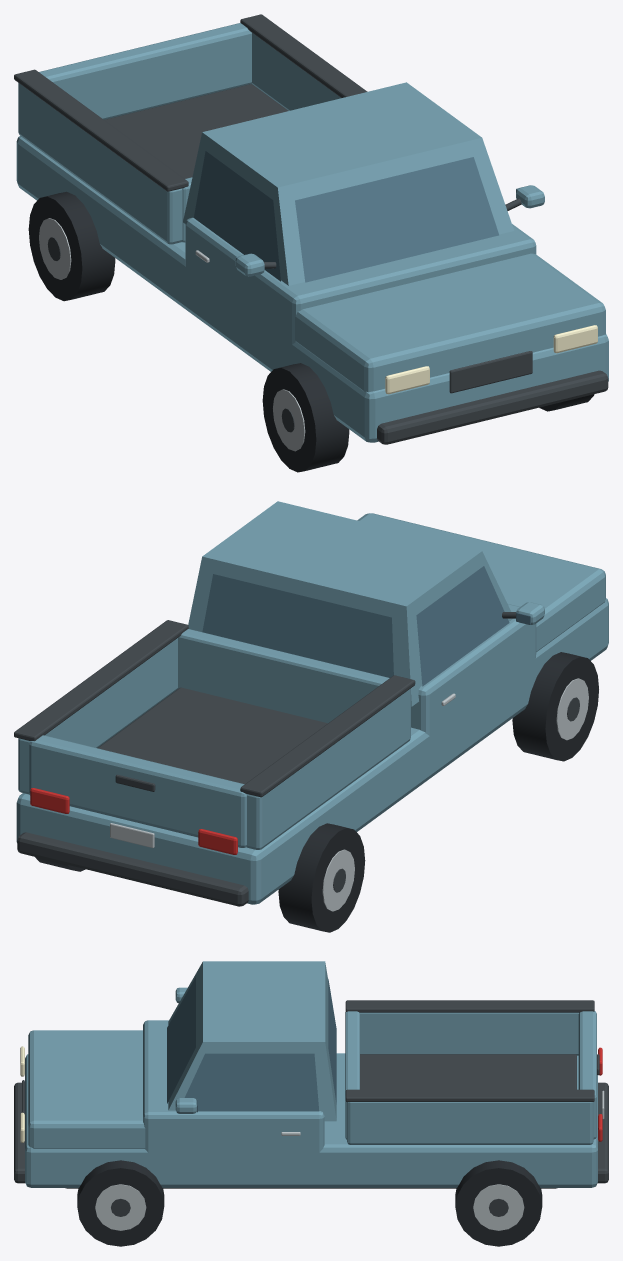
Rendered from car_pickup_truck.glb.
3 views of the same model, one above another, from view 1: azimuth 30°, elevation 25°; view 2: azimuth 150°, elevation 25°; view 3: azimuth 270°, elevation 25° (orthographic). The views are drawn at different scales.
Visible parts, largest first — view 1: Pickup bonnet, Pickup cab cabin shell, Main body, Pickup cab windshield, Cab lower body, Pickup tailgate, Cargo bed side, Truck bed floor, Pickup cab left window 1, Left front wheel tire, Left rear wheel tire, Front bumper (+8 smaller); view 2: Main body, Pickup cab cabin shell, Pickup tailgate, Truck bed floor, Pickup cab rear glass, Bed front wall, Cargo bed side, Pickup bonnet, Cab lower body, Cargo bed side.001, Pickup cab left window 1, Left rear wheel tire (+9 smaller); view 3: Main body, Pickup cab cabin shell, Pickup bonnet, Cargo bed side.001, Cab lower body, Cargo bed side, Truck bed floor, Pickup cab right window 1, Right front wheel tire, Right rear wheel tire, Cargo rail cap.001, Cargo rail cap (+8 smaller).
Boxes of the visible parts, box(x1,y1,x2,y2) form: Pickup bonnet: box(295, 253, 605, 392); Pickup cab cabin shell: box(183, 82, 514, 285); Main body: box(16, 136, 608, 442); Pickup cab windshield: box(295, 157, 498, 282); Cab lower body: box(185, 217, 536, 345); Pickup tailgate: box(39, 23, 251, 119); Cargo bed side: box(18, 83, 182, 244); Truck bed floor: box(104, 84, 288, 178); Pickup cab left window 1: box(193, 151, 280, 281); Left front wheel tire: box(262, 363, 349, 472); Left rear wheel tire: box(28, 191, 115, 301); Front bumper: box(377, 370, 608, 444); Main body: box(16, 598, 608, 904); Pickup cab cabin shell: box(188, 501, 512, 706); Pickup tailgate: box(29, 735, 246, 847); Truck bed floor: box(97, 687, 327, 784); Pickup cab rear glass: box(202, 574, 393, 677); Bed front wall: box(178, 629, 389, 723); Cargo bed side: box(246, 688, 410, 849); Pickup bonnet: box(357, 513, 605, 651); Cab lower body: box(411, 604, 536, 735); Cargo bed side.001: box(18, 638, 177, 794); Pickup cab left window 1: box(416, 566, 509, 686); Left rear wheel tire: box(278, 823, 365, 932); Main body: box(25, 1053, 597, 1187); Pickup cab cabin shell: box(168, 961, 336, 1121); Pickup bonnet: box(28, 1030, 145, 1148); Cargo bed side.001: box(347, 1102, 593, 1144); Cab lower body: box(143, 1020, 324, 1153); Cargo bed side: box(360, 1012, 578, 1055); Truck bed floor: box(360, 1054, 576, 1089); Pickup cab right window 1: box(184, 1053, 319, 1111); Right front wheel tire: box(77, 1160, 164, 1246); Right rear wheel tire: box(455, 1160, 542, 1246); Cargo rail cap.001: box(345, 1089, 594, 1101); Cargo rail cap: box(345, 1000, 594, 1012).
Bounding box in the file's own units: 2.45 × 1.83 × 5.21.
